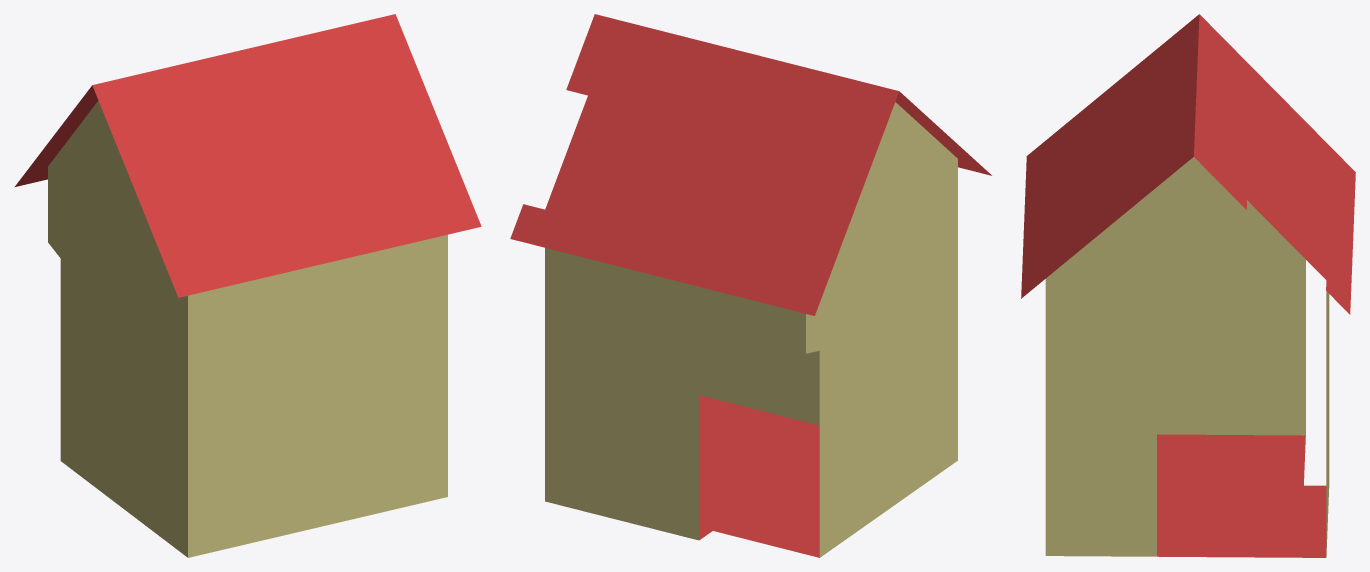
3 views of the same model, side by side, from view 1: azimuth 30°, elevation 25°; view 2: azimuth 150°, elevation 25°; view 3: azimuth 270°, elevation 25° (orthographic). The views are drawn at different scales.
Bounding box in the file's own units: 10.63 × 10.37 × 14.03.
